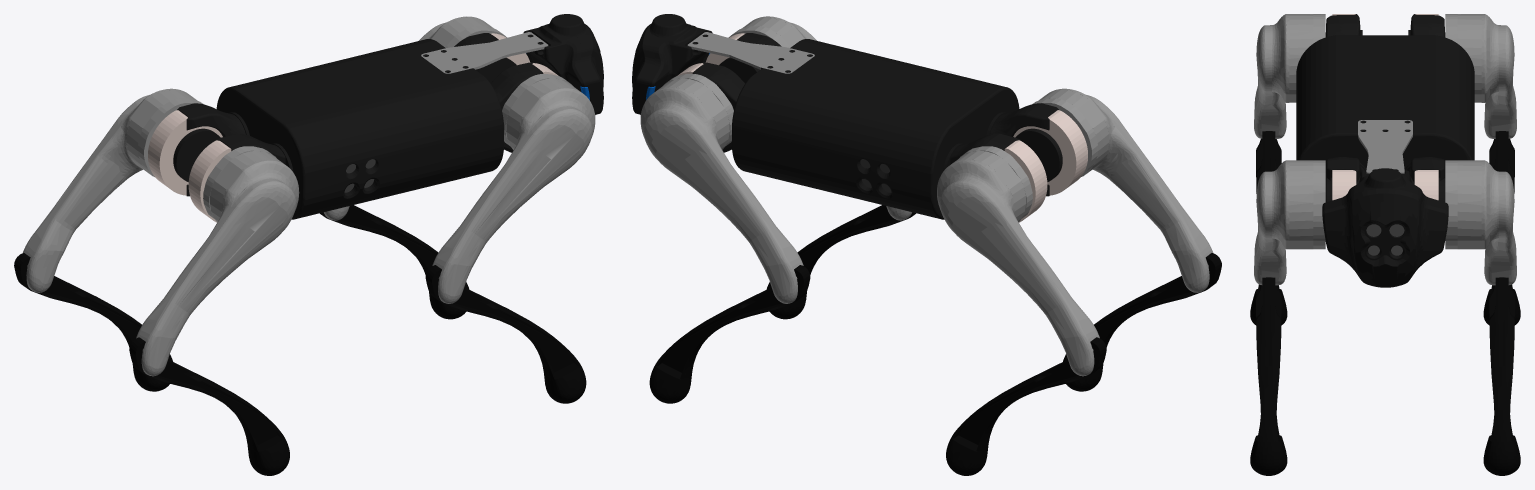
3 renders of one model, left to right at view 1: azimuth 30°, elevation 25°; view 2: azimuth 150°, elevation 25°; view 3: azimuth 270°, elevation 25°, orthographic.
Parts seen in each view (by area): view 1: Trunk, ThighBR_Thigh, ThighFR_Thigh, ThighBL_Thigh, HipBL_Hip, CalfBR_Calf, CalfFR_Calf, CalfBL_Calf, CalfFL_Calf, HipBR_Hip, ThighFL_Thigh, HipFR_Hip (+1 smaller); view 2: Trunk, ThighBL_Thigh, ThighFL_Thigh, ThighBR_Thigh, HipBR_Hip, CalfBL_Calf, CalfFL_Calf, CalfBR_Calf, CalfFR_Calf, HipBL_Hip, ThighFR_Thigh, HipFL_Hip (+1 smaller); view 3: Trunk, ThighFR_Thigh, ThighFL_Thigh, ThighBR_Thigh, ThighBL_Thigh, CalfFL_Calf, CalfFR_Calf, HipFR_Hip, HipFL_Hip, CalfBR_Calf, CalfBL_Calf, HipBR_Hip (+1 smaller).
Part boxes in pixels (bbox=[...]): Trunk: bbox=[216, 14, 603, 219]; ThighBR_Thigh: bbox=[136, 146, 299, 376]; ThighFR_Thigh: bbox=[432, 74, 595, 303]; ThighBL_Thigh: bbox=[23, 88, 203, 292]; HipBL_Hip: bbox=[148, 103, 245, 196]; CalfBR_Calf: bbox=[129, 337, 289, 475]; CalfFR_Calf: bbox=[425, 265, 586, 403]; CalfBL_Calf: bbox=[14, 253, 172, 391]; CalfFL_Calf: bbox=[320, 205, 469, 319]; HipBR_Hip: bbox=[188, 133, 285, 222]; ThighFL_Thigh: bbox=[324, 16, 507, 220]; HipFR_Hip: bbox=[491, 62, 558, 152]; Trunk: bbox=[632, 14, 1019, 219]; ThighBL_Thigh: bbox=[937, 146, 1099, 376]; ThighFL_Thigh: bbox=[640, 74, 803, 303]; ThighBR_Thigh: bbox=[1033, 88, 1213, 292]; HipBR_Hip: bbox=[990, 103, 1087, 196]; CalfBL_Calf: bbox=[946, 337, 1106, 475]; CalfFL_Calf: bbox=[649, 265, 810, 403]; CalfBR_Calf: bbox=[1063, 253, 1221, 391]; CalfFR_Calf: bbox=[766, 205, 915, 319]; HipBL_Hip: bbox=[950, 133, 1047, 222]; ThighFR_Thigh: bbox=[728, 16, 911, 220]; HipFL_Hip: bbox=[677, 62, 745, 152]; Trunk: bbox=[1296, 35, 1474, 287]; ThighFR_Thigh: bbox=[1254, 160, 1325, 285]; ThighFL_Thigh: bbox=[1445, 160, 1516, 285]; ThighBR_Thigh: bbox=[1254, 14, 1325, 138]; ThighBL_Thigh: bbox=[1445, 14, 1516, 138]; CalfFL_Calf: bbox=[1483, 277, 1520, 475]; CalfFR_Calf: bbox=[1250, 277, 1287, 475]; HipFR_Hip: bbox=[1325, 157, 1366, 202]; HipFL_Hip: bbox=[1404, 157, 1445, 202]; CalfBR_Calf: bbox=[1250, 131, 1287, 325]; CalfBL_Calf: bbox=[1483, 131, 1520, 325]; HipBR_Hip: bbox=[1325, 14, 1362, 37].
Bounding box in the file's own units: 0.6616 × 0.3943 × 0.2939.
